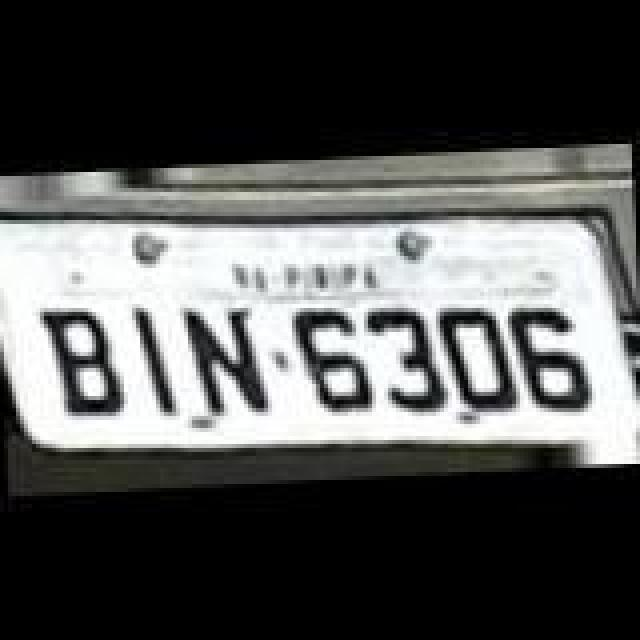1: (128, 302, 184, 418)
3: (364, 302, 452, 418)
6: (508, 302, 596, 418), (294, 304, 378, 416)
B: (34, 300, 126, 420)
N: (184, 302, 272, 418)
O: (440, 304, 520, 416)
